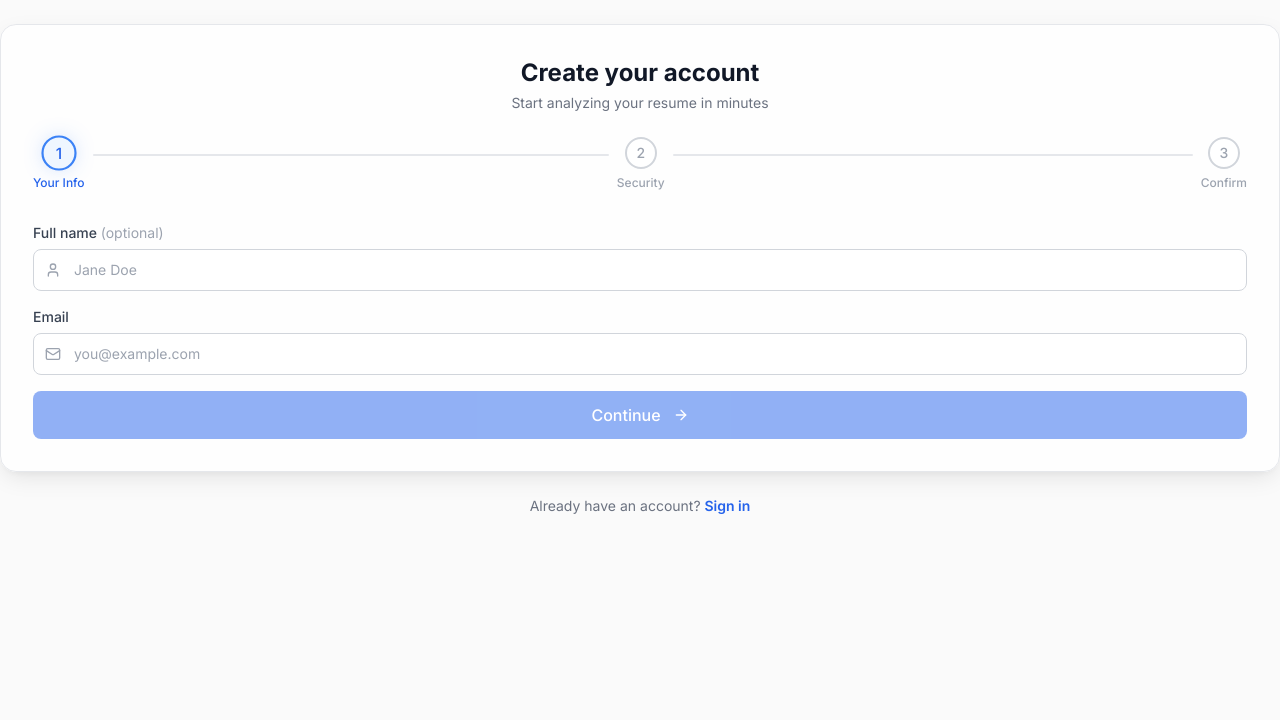
Test case: RegisterPage › shows confirm error when passwords dont match
The width and height of the screenshot is (1280, 720).
Note: Go to step 2
Type "test@example.com" into the field with placeholder "you@example.com" at [640, 354], box [33,333,1247,375]
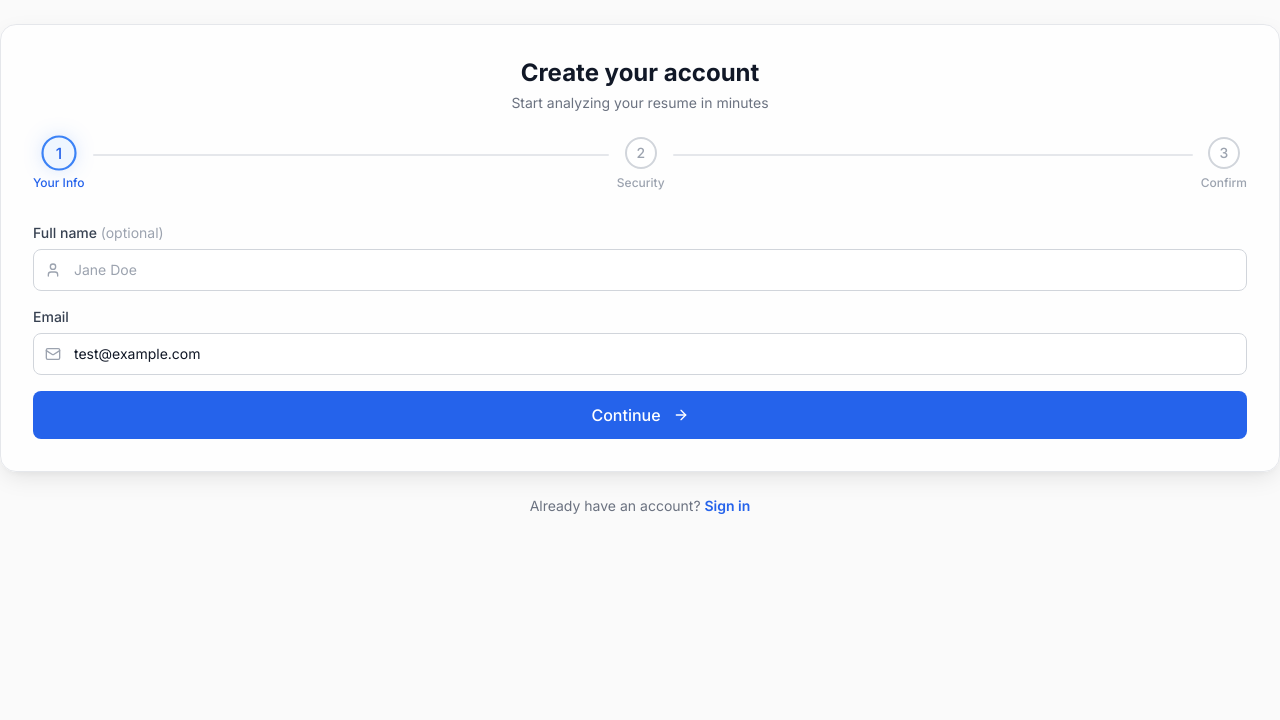
Click the button "Continue" at [640, 415], box [33,391,1247,439]
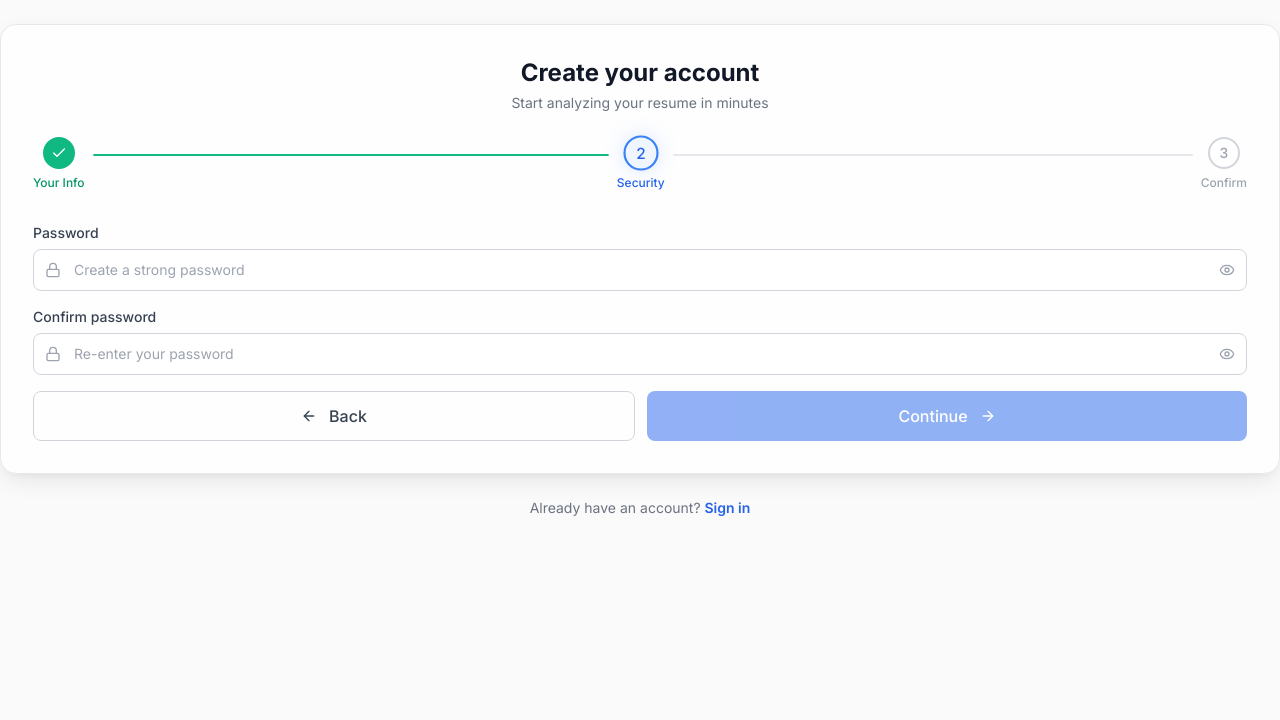
Note: Fill passwords that dont match
Type "StrongPass1!" into the password field with placeholder "Create a strong password" at [640, 270], box [33,249,1247,291]
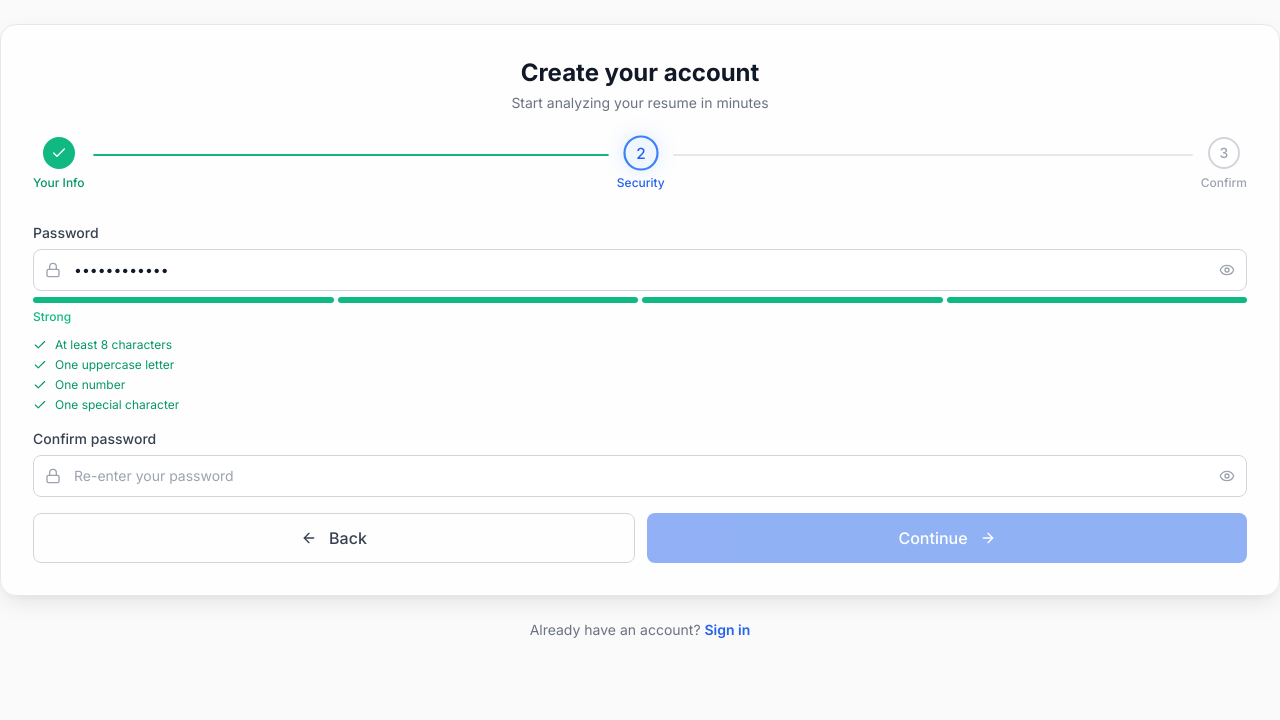
Type "DifferentPass1!" into the password field with placeholder "Re-enter your password" at [640, 476], box [33,455,1247,497]
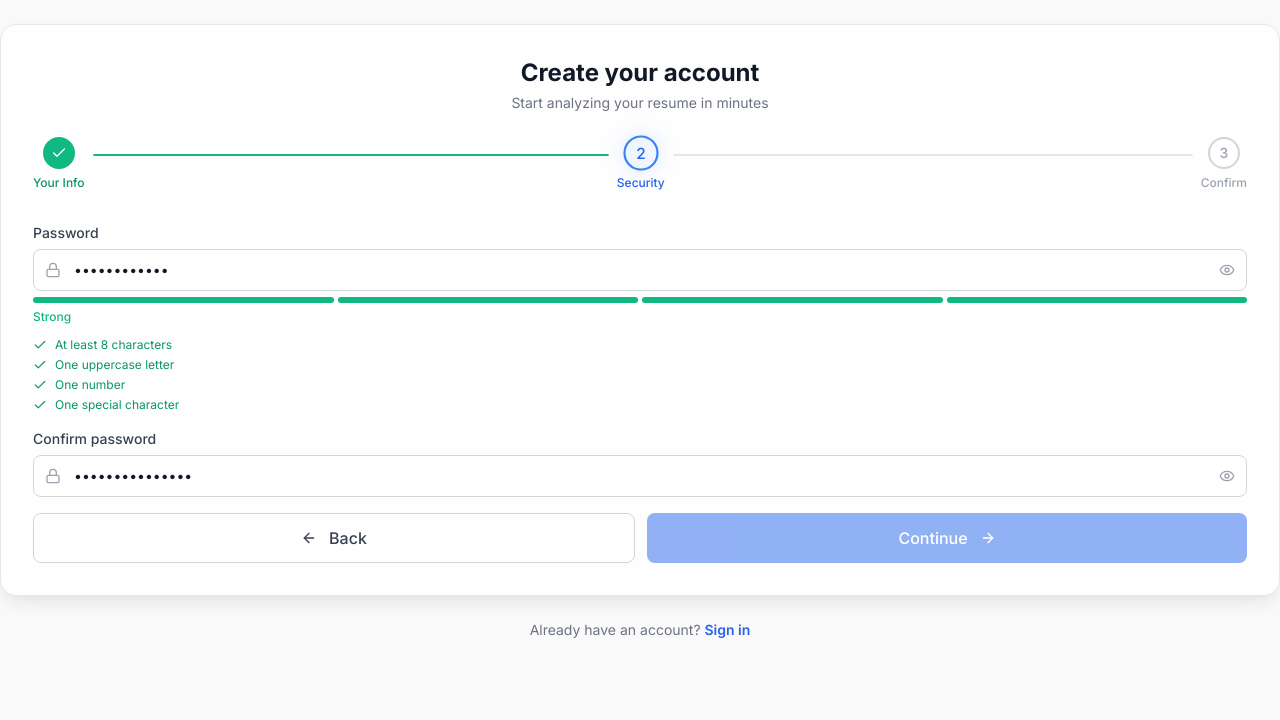
Leave the password field with placeholder "Re-enter your password", box [33,455,1247,497]
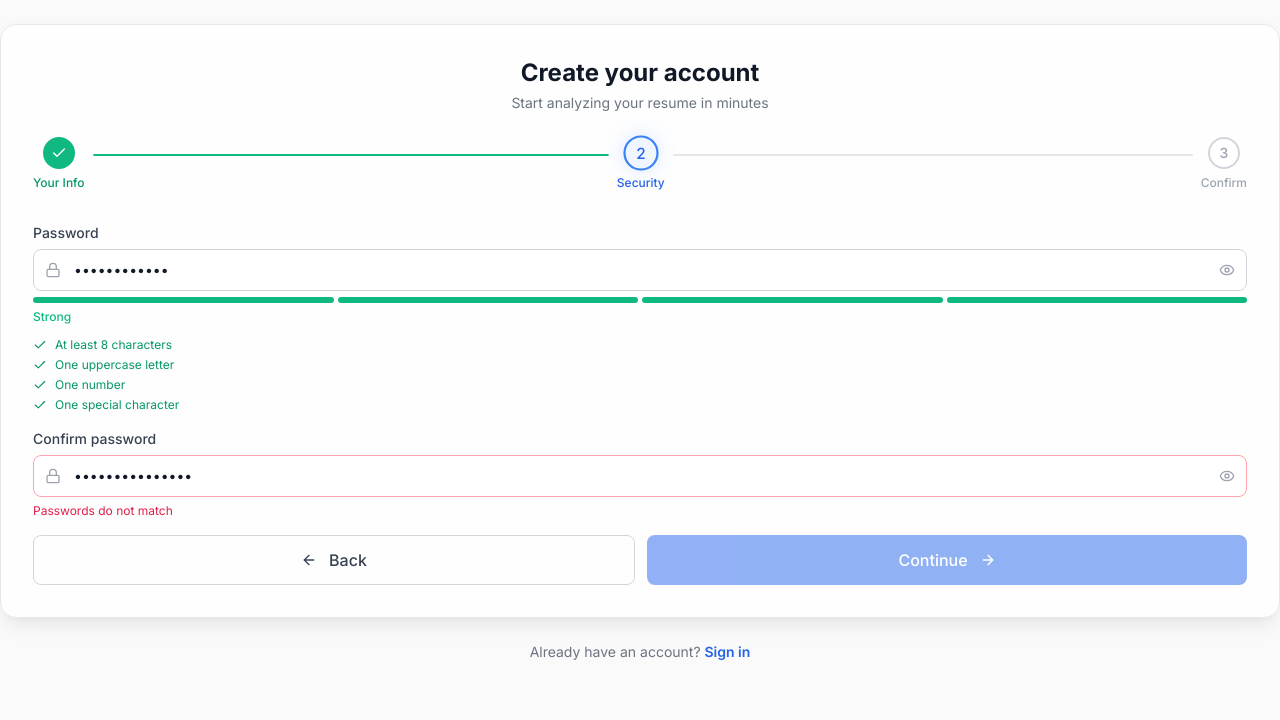
Expected: the text "Passwords do not match" is shown, [33,503,173,518]
